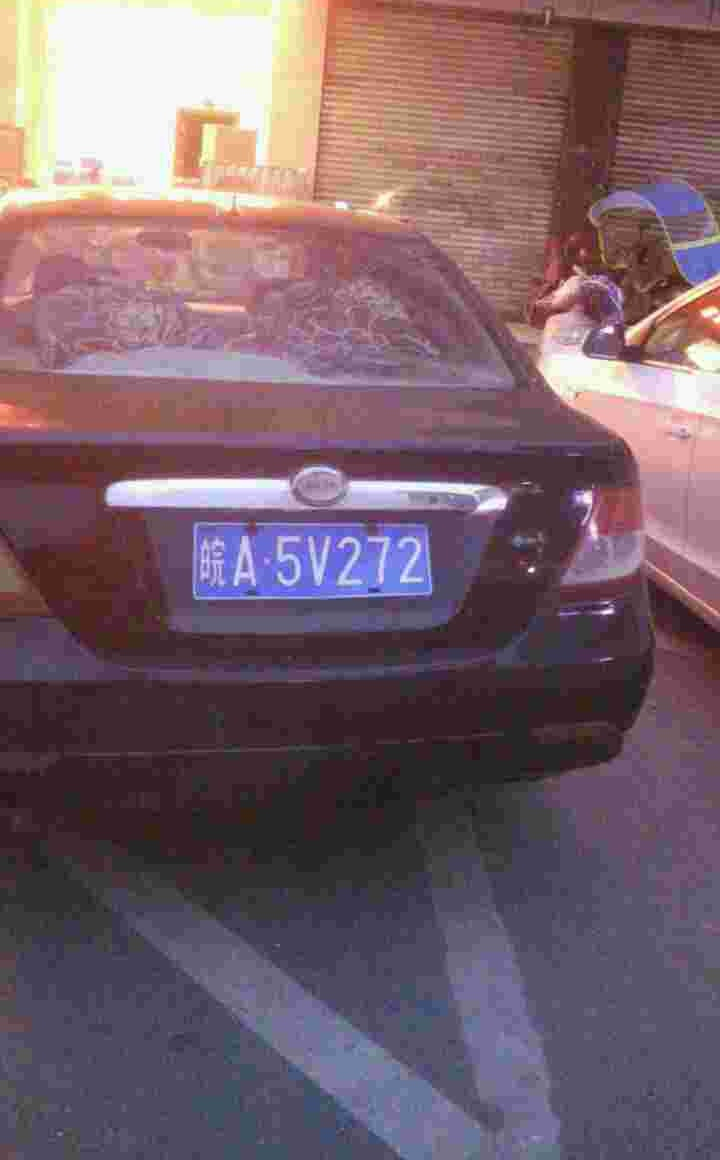car: (179, 515, 457, 601)
